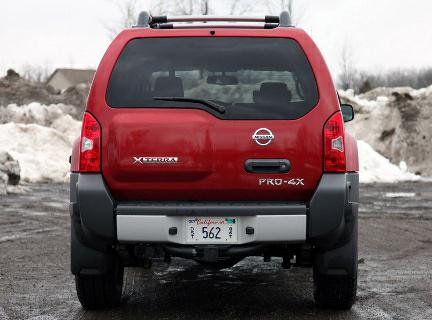日产-Xterra: (67, 15, 365, 315)
